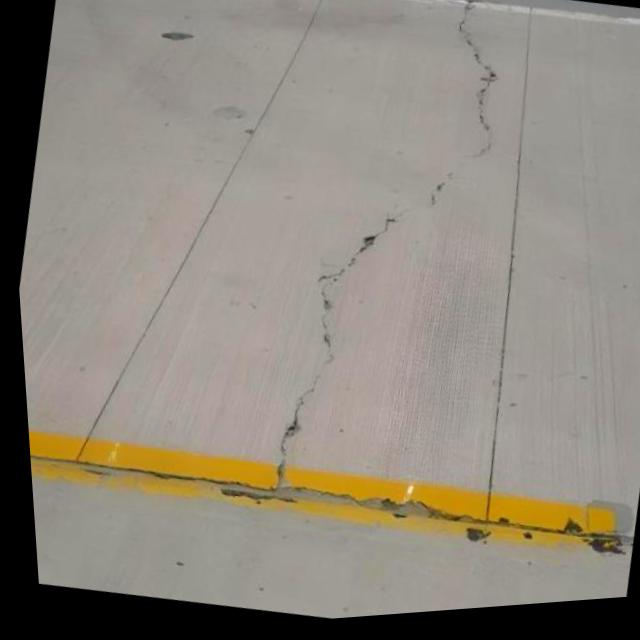Crack: (241, 415, 626, 599), (352, 0, 541, 257), (264, 187, 484, 369), (220, 263, 368, 529)
